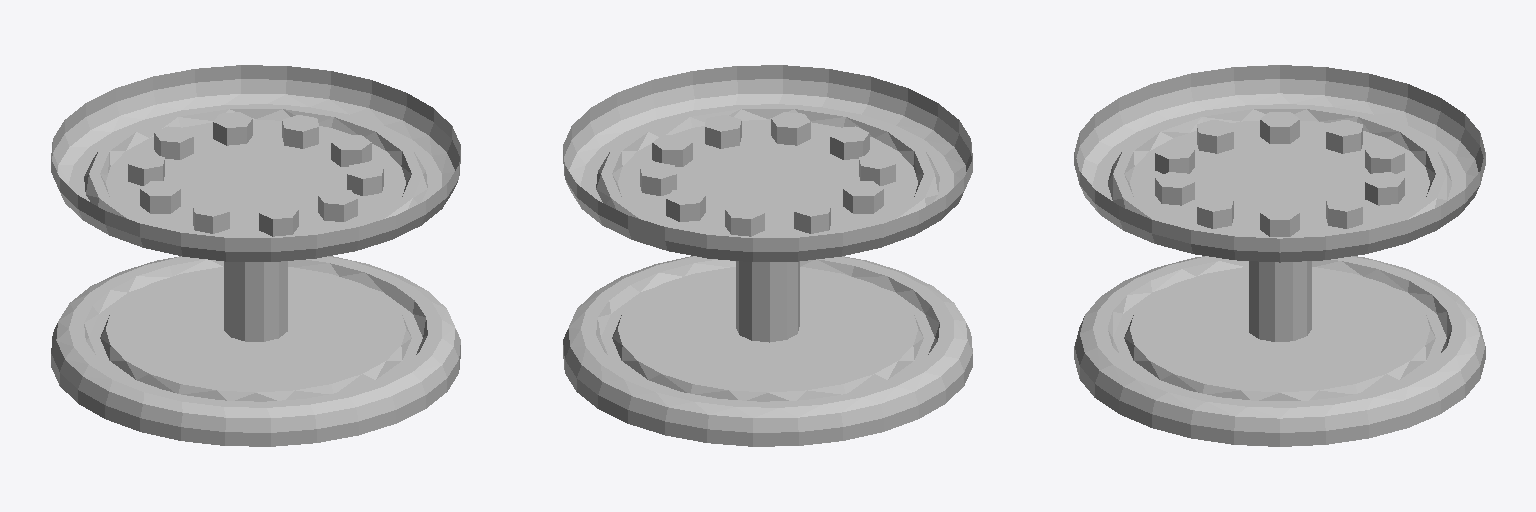
File: SemiTrailer_rim.obj
The picture shows the model from 3 angles: view 1: azimuth 30°, elevation 25°; view 2: azimuth 150°, elevation 25°; view 3: azimuth 270°, elevation 25°; orthographic projection.
Parts seen in each view (by area): view 1: test.001; view 2: test.001; view 3: test.001.
Part boxes in pixels (bbox=[...]): test.001: bbox=[51, 65, 460, 446]; test.001: bbox=[563, 65, 972, 446]; test.001: bbox=[1074, 65, 1485, 446].
Bounding box in the file's own units: 0.63 × 0.3525 × 0.63.